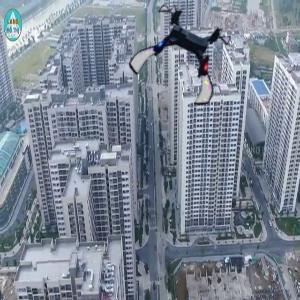drone: (139, 11, 231, 103)
